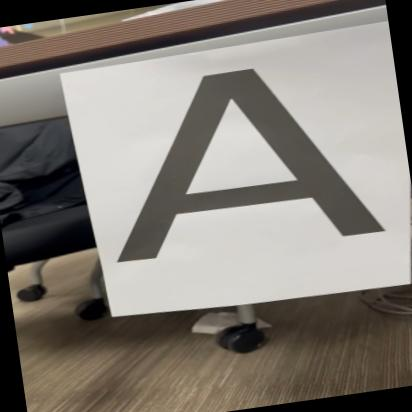seat: (78, 43, 390, 275)
